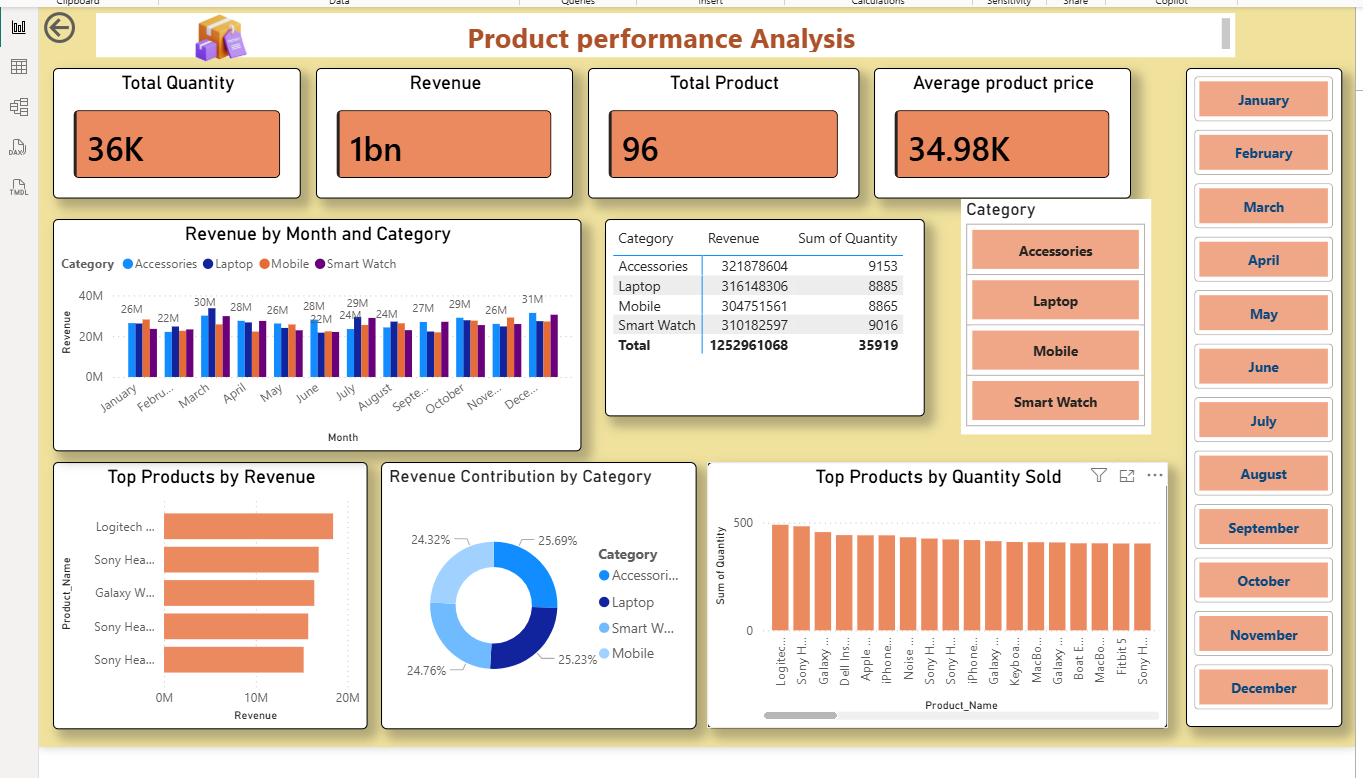

What the dashboard file says about the page in this screenshot:
{"tool":"powerbi","page":{"name":"Product performance","canvas":[1280,720],"ordinal":1},"visuals":[{"type":"cardVisual","title":"Total Quantity","fields":{"Data":["Sum(Order Items.Quantity)"]},"box":[13.6,59.3,241.2,127.4],"z":0},{"type":"textbox","box":[55.4,6,1107.8,42.9],"z":1000,"group":"g1"},{"type":"cardVisual","title":"Revenue","fields":{"Data":["Order Items.Revenue"]},"box":[269.4,59.3,250,127.4],"z":1000},{"type":"clusteredBarChart","title":"Top Products by Revenue","fields":{"Category":["Products.Product_Name"],"Y":["Order Items.Revenue"]},"box":[13.6,442.6,306.4,259.7],"z":2000},{"type":"clusteredColumnChart","fields":{"Category":["Calendar.Month"],"Series":["Products.Category"],"Y":["Order Items.Revenue"]},"box":[13.6,206.2,513.6,225.7],"z":4000},{"type":"pivotTable","fields":{"Rows":["Products.Category"],"Values":["Order Items.Revenue","Sum(Order Items.Quantity)"]},"box":[550.5,206.2,311.2,191.6],"z":5000},{"type":"actionButton","box":[0,0,100,40],"z":6000},{"type":"image","box":[84.4,0,184.8,59.3],"z":8003,"group":"g1"},{"type":"group","id":"g1","title":"Group 2","box":[55.4,0,1107.8,59.3],"z":10000},{"type":"donutChart","title":"Revenue Contribution by Category","fields":{"Category":["Products.Category"],"Y":["Order Items.Revenue"]},"box":[332.6,442.6,307.4,259.7],"z":11000},{"type":"cardVisual","title":"Total Product","fields":{"Data":["Products.Total Products"]},"box":[534,59.3,263.6,127.4],"z":11001},{"type":"cardVisual","title":"Average product price","fields":{"Data":["Products.Average Product Price"]},"box":[812.2,59.3,250,127.4],"z":11002},{"type":"clusteredColumnChart","title":"Top Products by Quantity Sold","fields":{"Category":["Products.Product_Name"],"Y":["Sum(Order Items.Quantity)"]},"box":[649.7,442.6,448.4,258.7],"z":11003},{"type":"advancedSlicerVisual","fields":{"Values":["Products.Category"]},"box":[896.8,186.7,184.8,228.6],"z":11005},{"type":"advancedSlicerVisual","fields":{"Values":["Calendar.Month"]},"box":[1115.6,59.3,151.7,641],"z":11006}]}

Visuals, with their boxes on the page's 1280x720 design canvas (x1, y1, x2, y2). These are canvas units, not pixel positions in the 1363x778 screenshot, which may show the page scaled, cropped or inside an application window:
"Total Quantity" cardVisual: [14,59,255,187]
textbox: [55,6,1163,49]
"Revenue" cardVisual: [269,59,519,187]
"Top Products by Revenue" clusteredBarChart: [14,443,320,702]
clusteredColumnChart - Calendar.Month x Products.Category: [14,206,527,432]
pivotTable - Products.Category x Order Items.Revenue: [550,206,862,398]
actionButton: [0,0,100,40]
image: [84,0,269,59]
"Group 2" group: [55,0,1163,59]
"Revenue Contribution by Category" donutChart: [333,443,640,702]
"Total Product" cardVisual: [534,59,798,187]
"Average product price" cardVisual: [812,59,1062,187]
"Top Products by Quantity Sold" clusteredColumnChart: [650,443,1098,701]
advancedSlicerVisual - Products.Category: [897,187,1082,415]
advancedSlicerVisual - Calendar.Month: [1116,59,1267,700]
